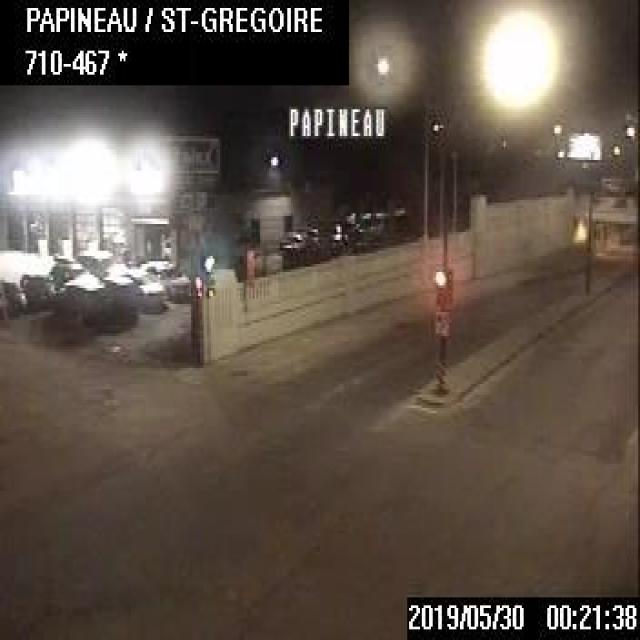vehicle: (125, 262, 170, 315), (158, 260, 192, 300)
